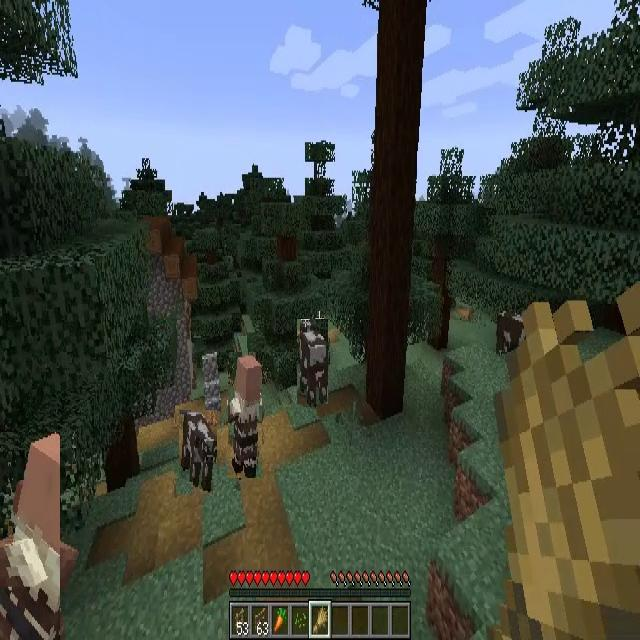cow: (180, 410, 218, 494), (297, 319, 328, 404), (494, 312, 526, 362)
people: (0, 432, 60, 640), (228, 352, 262, 478)
